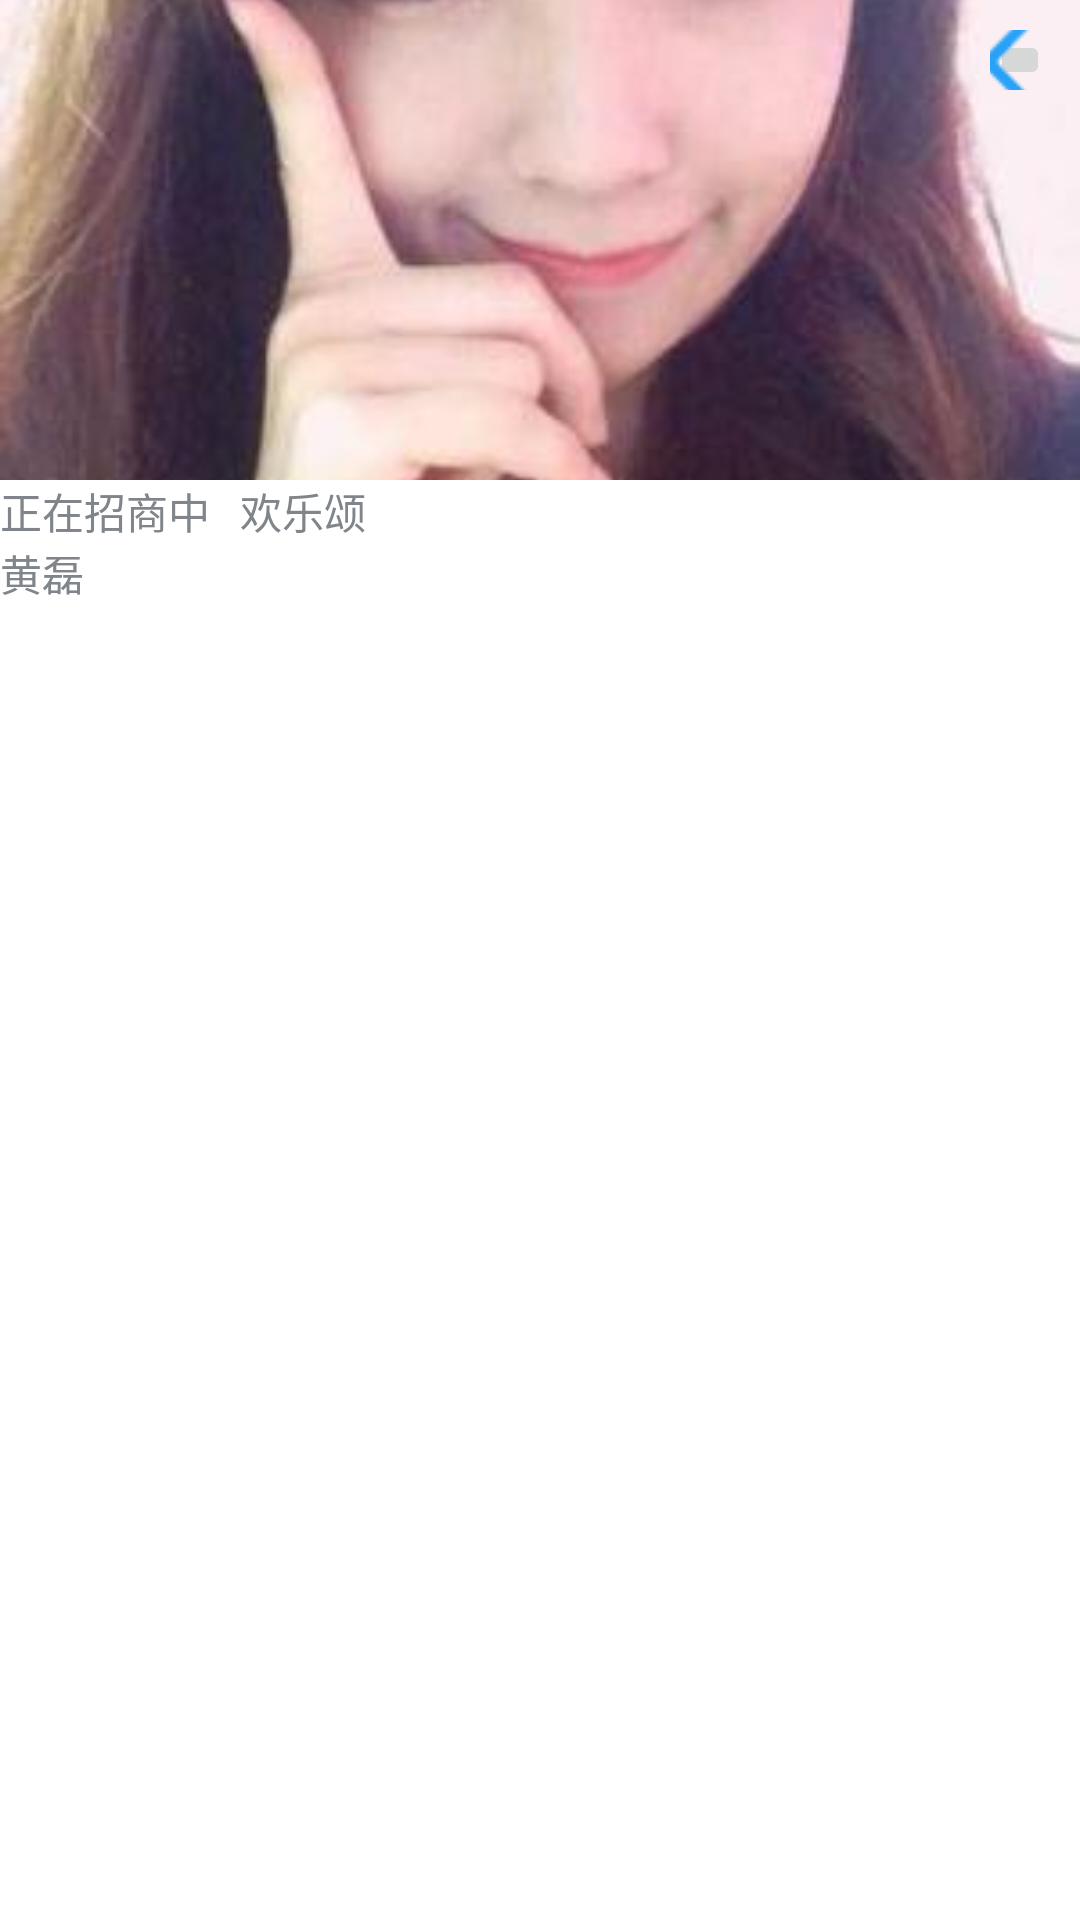

Screen size 1080×1920. Icon name, then its box in pixels as (x1, y1, x2, y2):
back: (990, 30, 1038, 90)
